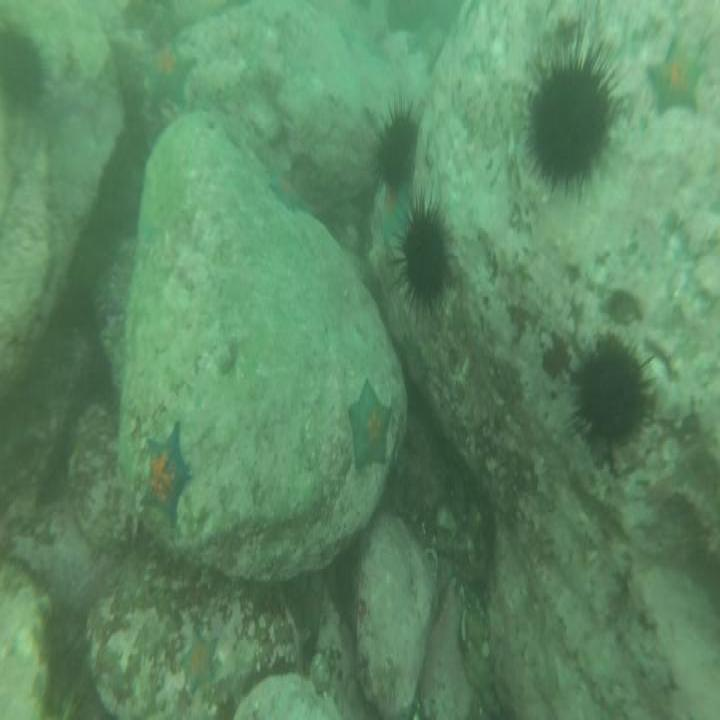echinus: (517, 34, 631, 208), (561, 322, 657, 476), (389, 197, 459, 326), (0, 21, 53, 119), (373, 98, 421, 199)
starfish: (138, 420, 193, 532), (644, 34, 704, 121), (345, 377, 394, 482), (139, 37, 197, 119), (177, 625, 221, 698), (373, 181, 416, 249), (263, 165, 309, 219)
